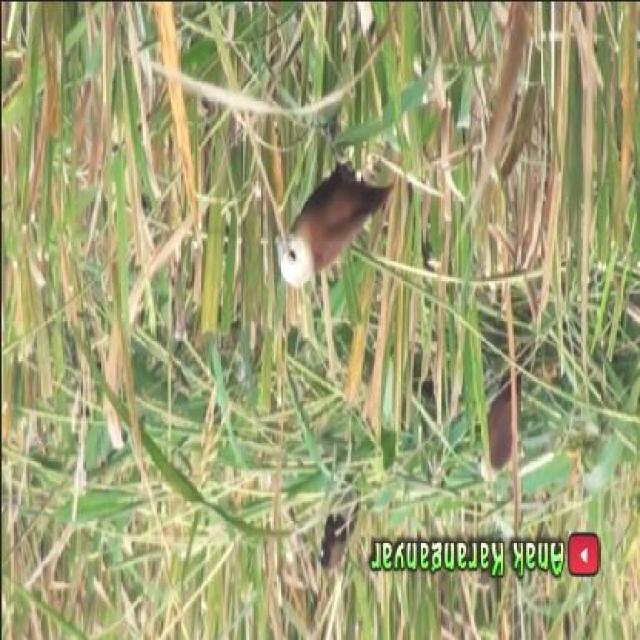Bird: (267, 104, 408, 287)
